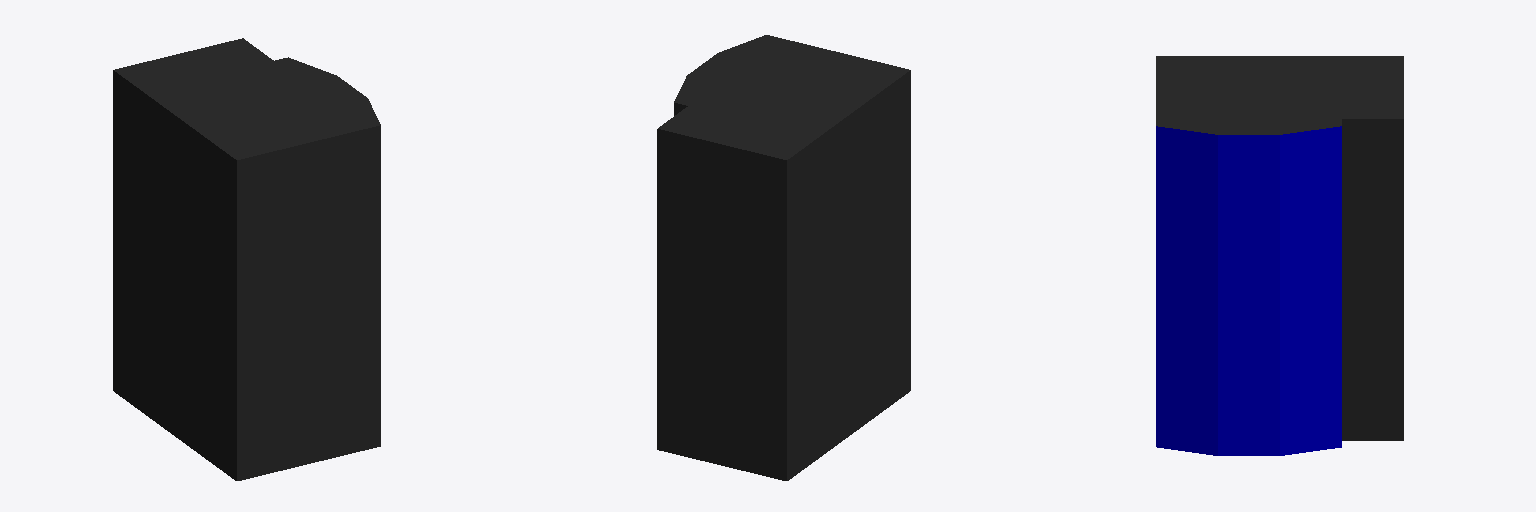
File: vndmchn2.obj
The picture shows the model from 3 angles: view 1: azimuth 30°, elevation 25°; view 2: azimuth 150°, elevation 25°; view 3: azimuth 270°, elevation 25°; orthographic projection.
Visible parts, largest first — view 1: Cube.015; view 2: Cube.015; view 3: Cube.015.
Part boxes in pixels (x1,y1,x2,y2): Cube.015: (113,38,380,480); Cube.015: (657,35,910,480); Cube.015: (1156,56,1403,455).
Bounding box in the file's own units: 1.14 × 2.15 × 1.5.